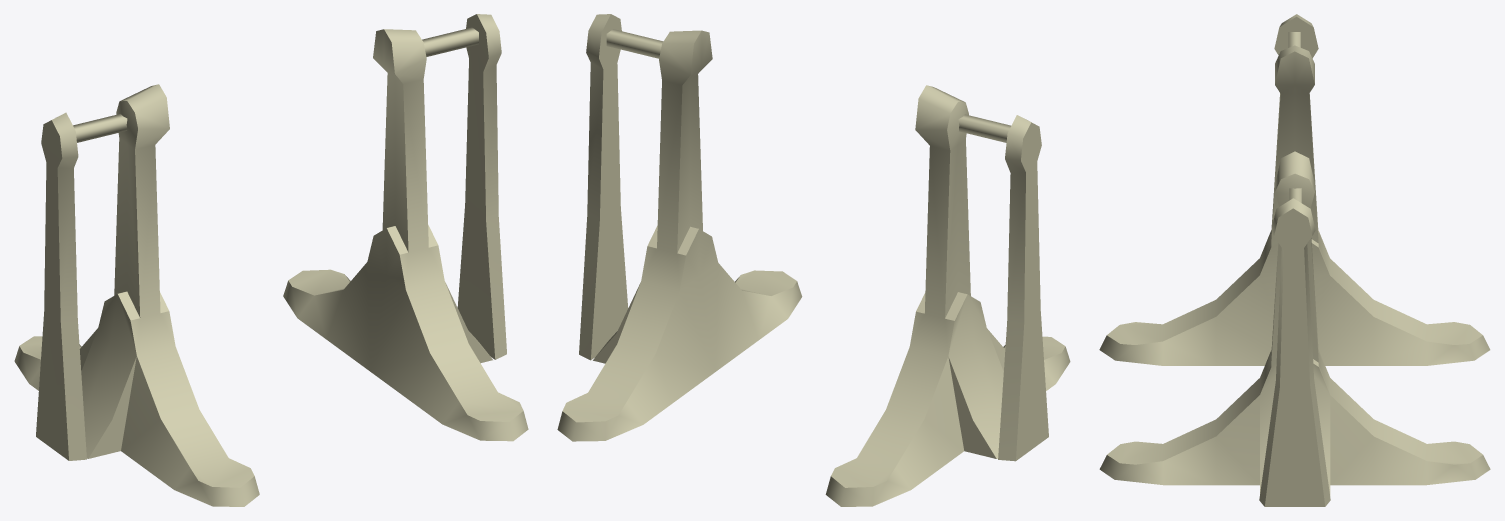
The picture shows the model from 3 angles, left to right: view 1: azimuth 30°, elevation 25°; view 2: azimuth 150°, elevation 25°; view 3: azimuth 270°, elevation 25°; orthographic projection. The views are drawn at different scales.
Parts seen in each view (by area): view 1: Object31; view 2: Object31; view 3: Object31.
Part boxes in pixels (left/top/right/bottom): Object31: left=14, top=14, right=528, bottom=506; Object31: left=557, top=14, right=1070, bottom=506; Object31: left=1099, top=14, right=1490, bottom=506.
Size of the model in its own units: 362 by 268 by 308.
